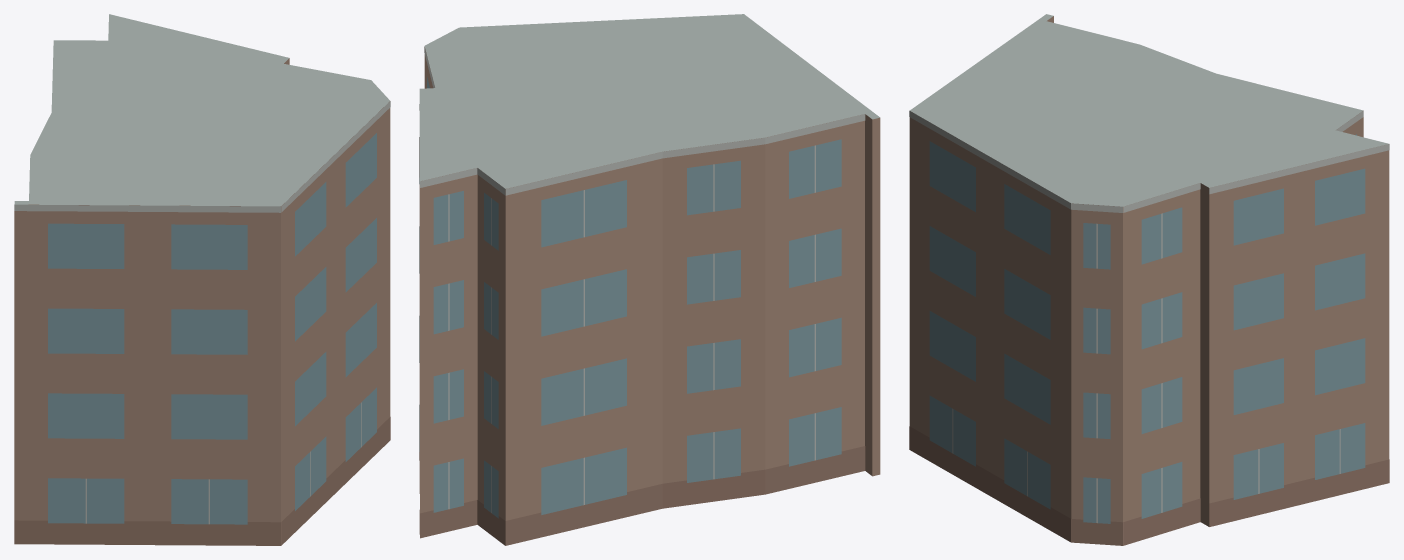
Rendered from survey-upis-32913784.glb.
The picture shows the model from 3 angles, left to right: view 1: azimuth 30°, elevation 25°; view 2: azimuth 150°, elevation 25°; view 3: azimuth 270°, elevation 25°; orthographic projection. The views are drawn at different scales.
Parts seen in each view (by area): view 1: survey-upis-32913784.tmp; view 2: survey-upis-32913784.tmp; view 3: survey-upis-32913784.tmp.
Part boxes in pixels (x1,y1,x2,y2): survey-upis-32913784.tmp: (14,14,390,545); survey-upis-32913784.tmp: (419,14,880,545); survey-upis-32913784.tmp: (909,14,1389,545).
Size of the model in its own units: 15.66 by 12.85 by 16.48.
